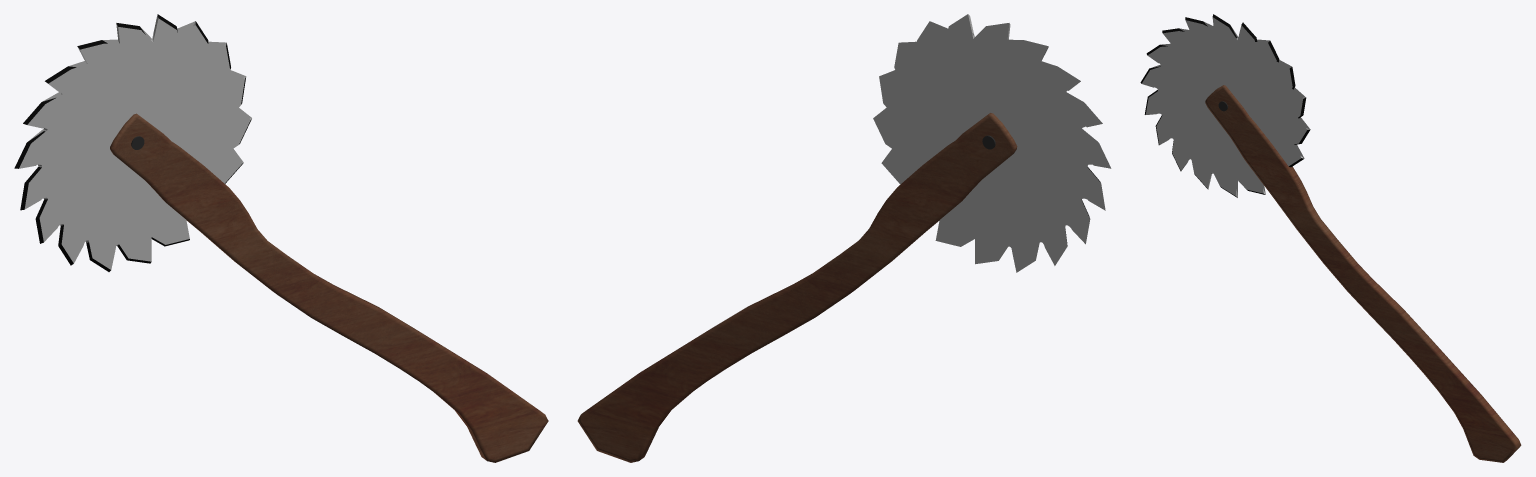
The model's file is Saw Weapon.fbx.
The picture shows the model from 3 angles, left to right: view 1: azimuth 30°, elevation 25°; view 2: azimuth 150°, elevation 25°; view 3: azimuth 330°, elevation 25°; orthographic projection. The views are drawn at different scales.
Visible parts, largest first — view 1: Blade, Handle; view 2: Blade, Handle; view 3: Blade, Handle.
Part boxes in pixels (x1,y1,x2,y2): Blade: (14, 14, 251, 271); Handle: (110, 113, 548, 462); Blade: (873, 14, 1111, 272); Handle: (577, 113, 1017, 462); Blade: (1140, 14, 1310, 197); Handle: (1205, 85, 1521, 462).
Bounding box in the file's own units: 78.01 × 74.33 × 1.83.
